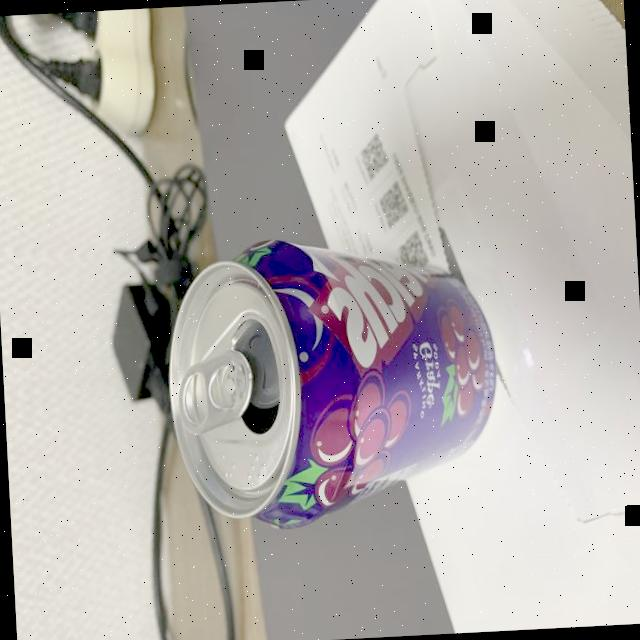can: (159, 231, 504, 540)
